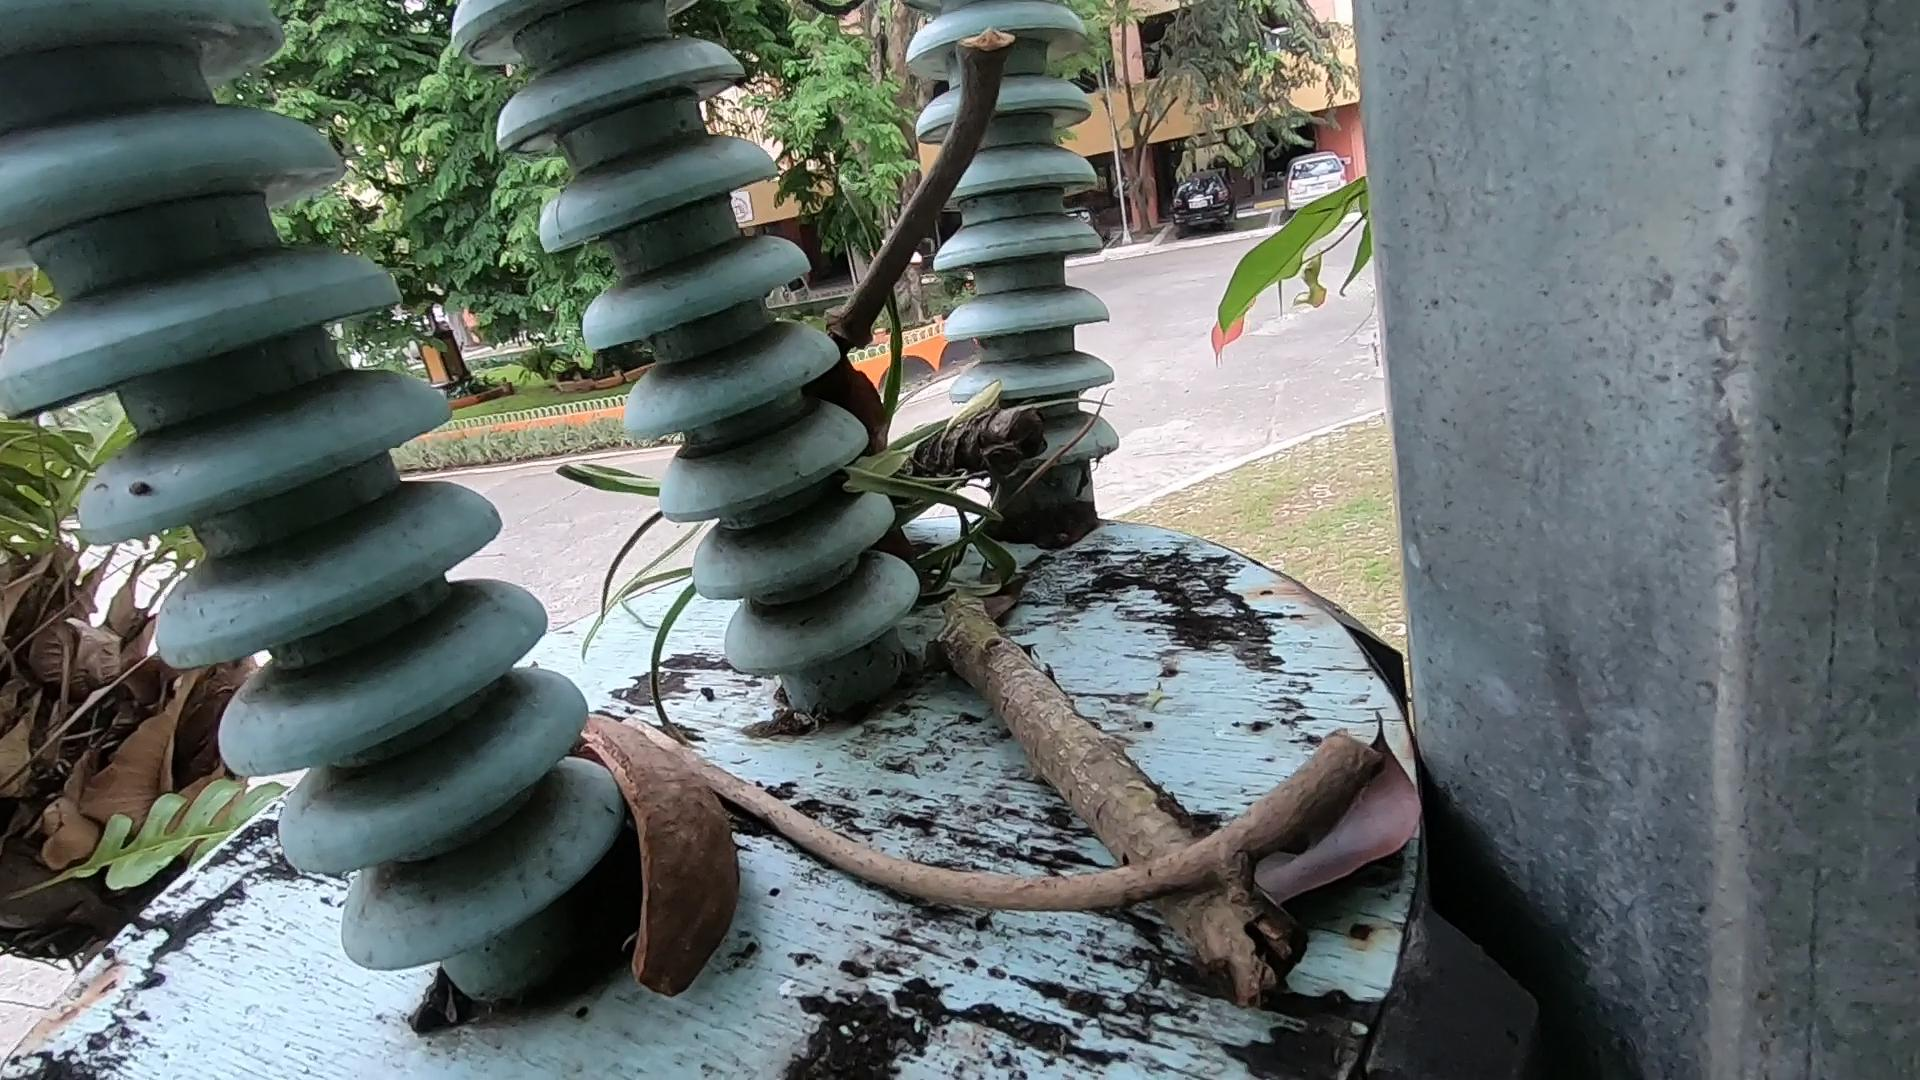branch with leaves: (767, 295, 1325, 1080)
leaf: (1215, 646, 1437, 920)
mahogany fruit: (562, 649, 829, 1034)
tree branch: (679, 1, 1021, 462), (659, 676, 1291, 924)
